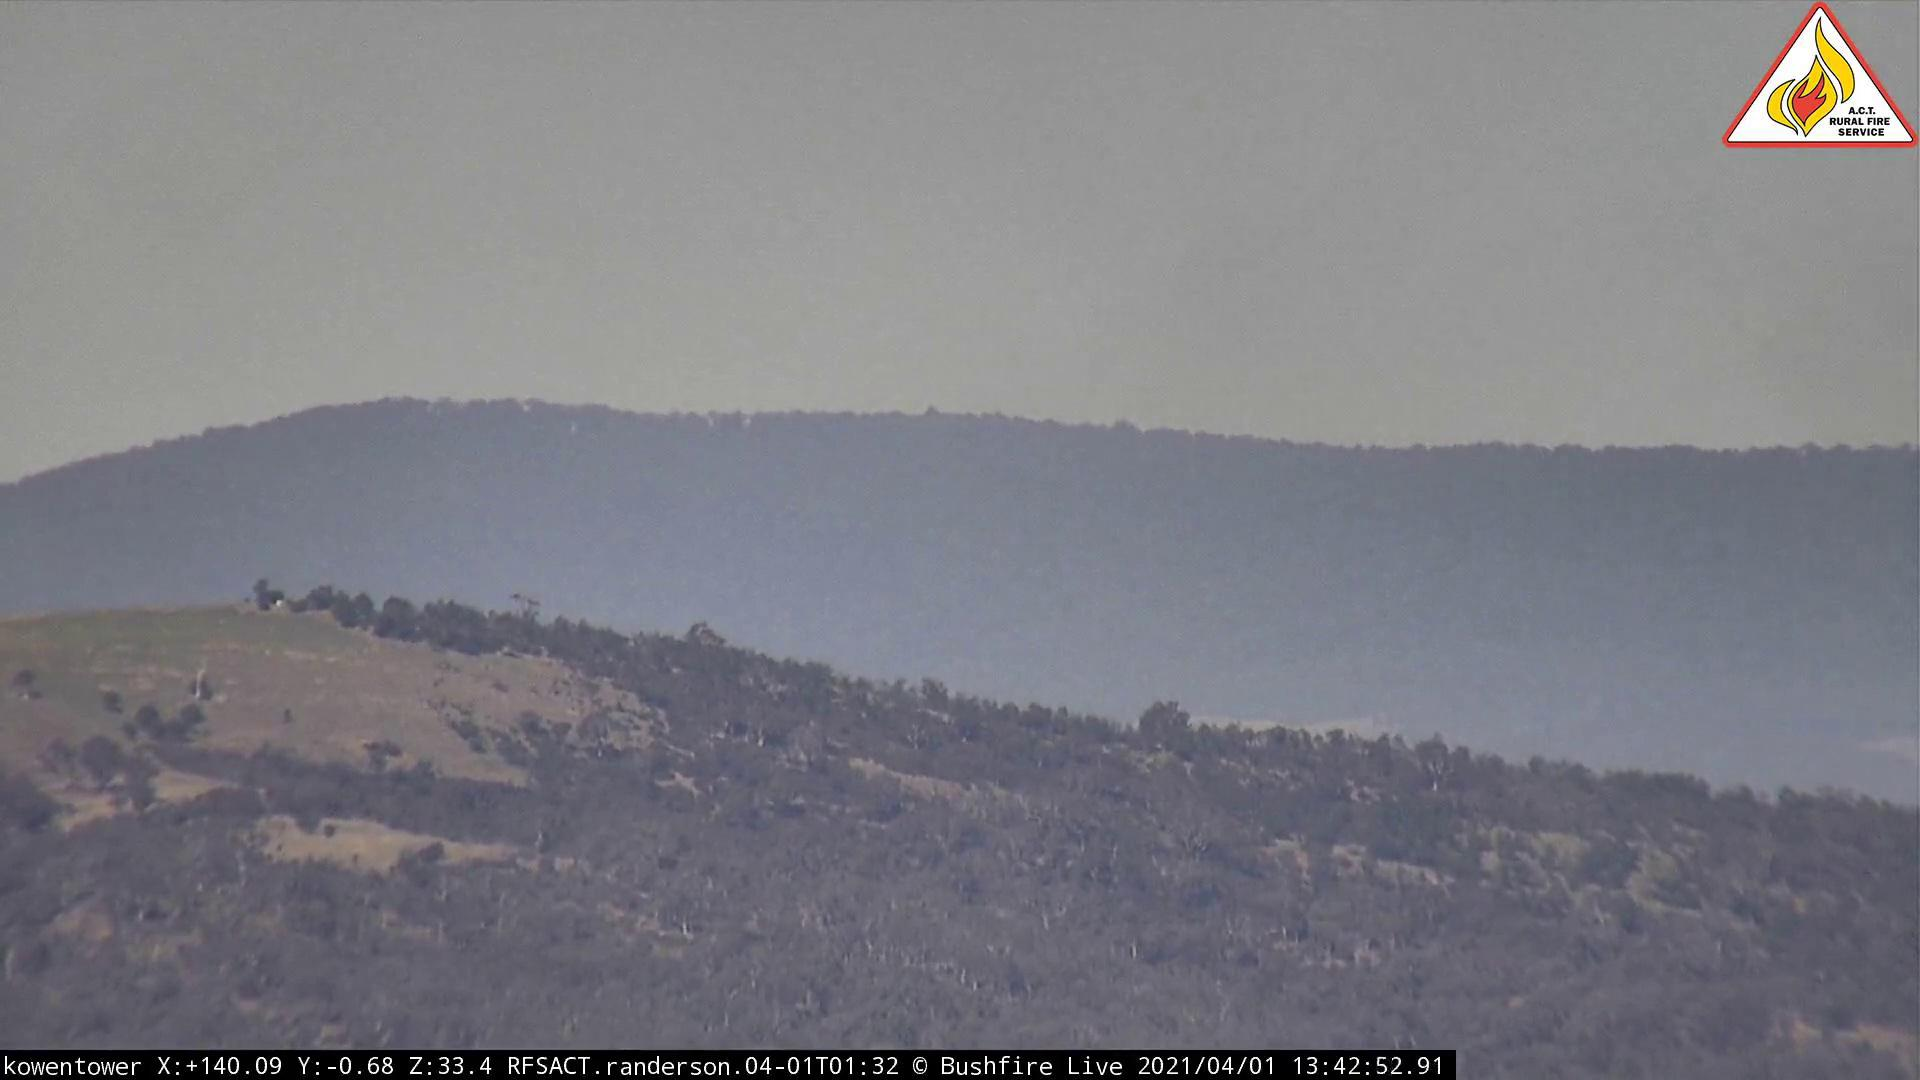instance_salient_object: (993, 174, 1515, 636)
